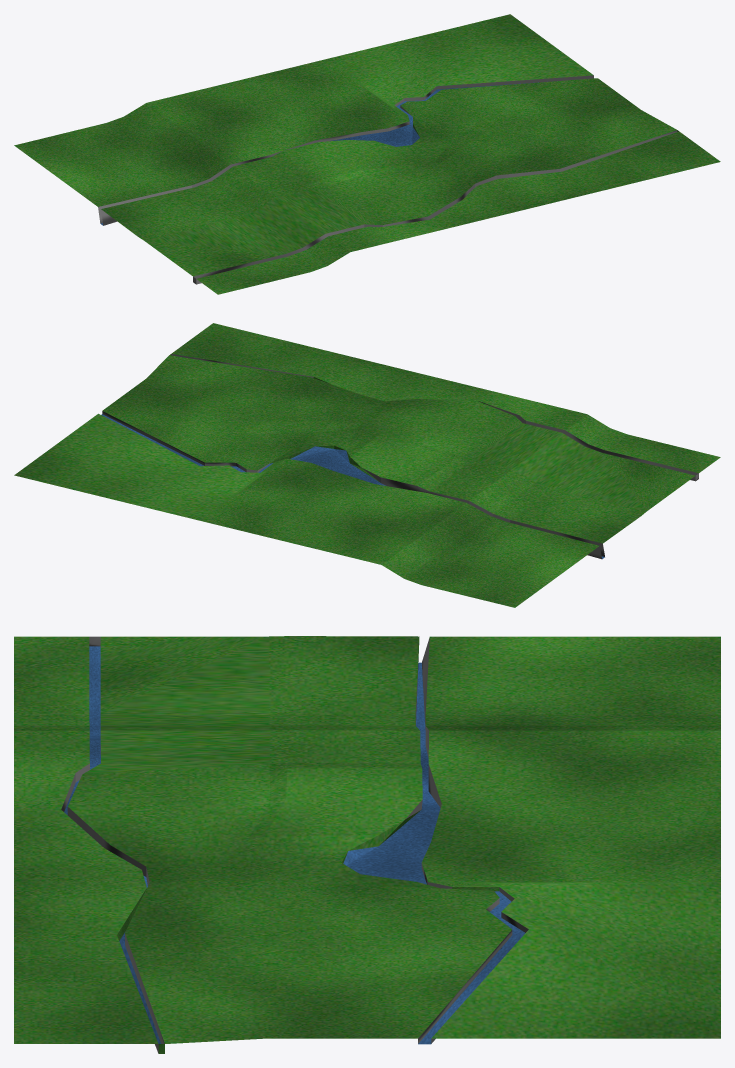
The model's file is ground2.dae.
3 renders of one model, top to bottom at view 1: azimuth 30°, elevation 25°; view 2: azimuth 150°, elevation 25°; view 3: azimuth 270°, elevation 25°, orthographic. The views are drawn at different scales.
Parts seen in each view (by area): view 1: ground; view 2: ground; view 3: ground.
Boxes of the visible parts, <box> form: ground: <box>14,14,720,294</box>; ground: <box>14,323,720,607</box>; ground: <box>14,636,720,1053</box>.
Size of the model in its own units: 69.82 by 48.99 by 3.74.
